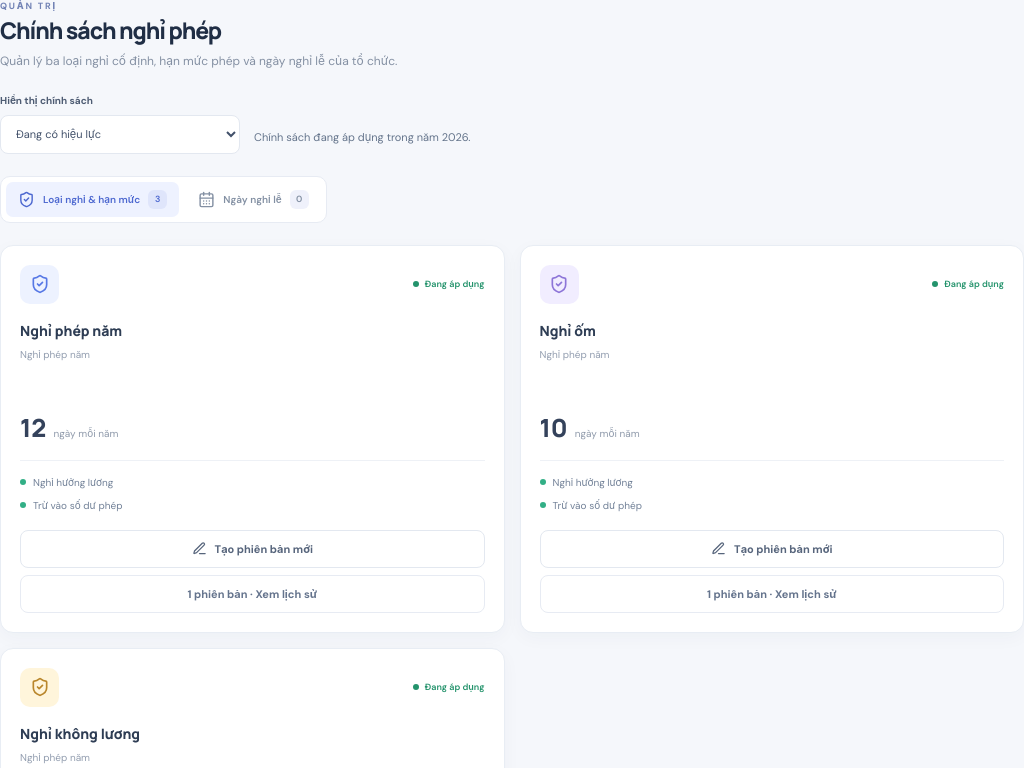
PoliciesPage › defaults to the next policy year when the current year has no later effective date
Step 1. Click the button "Tạo phiên bản mới" below "12" → coordinates (252, 548), box [20,530,484,568]
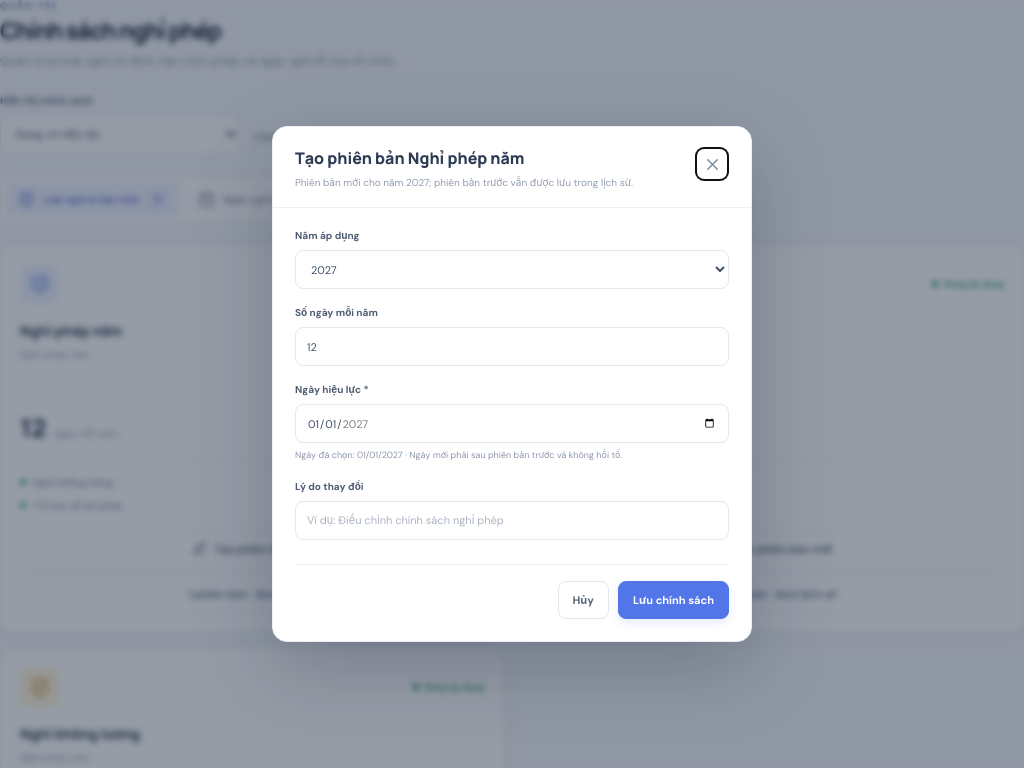
Result: the dropdown labelled "Năm áp dụng" shows "2027" at [295,250,729,289]
Result: the date field labelled "Ngày hiệu lực *" holds "2027-01-01" at [295,404,729,443]
